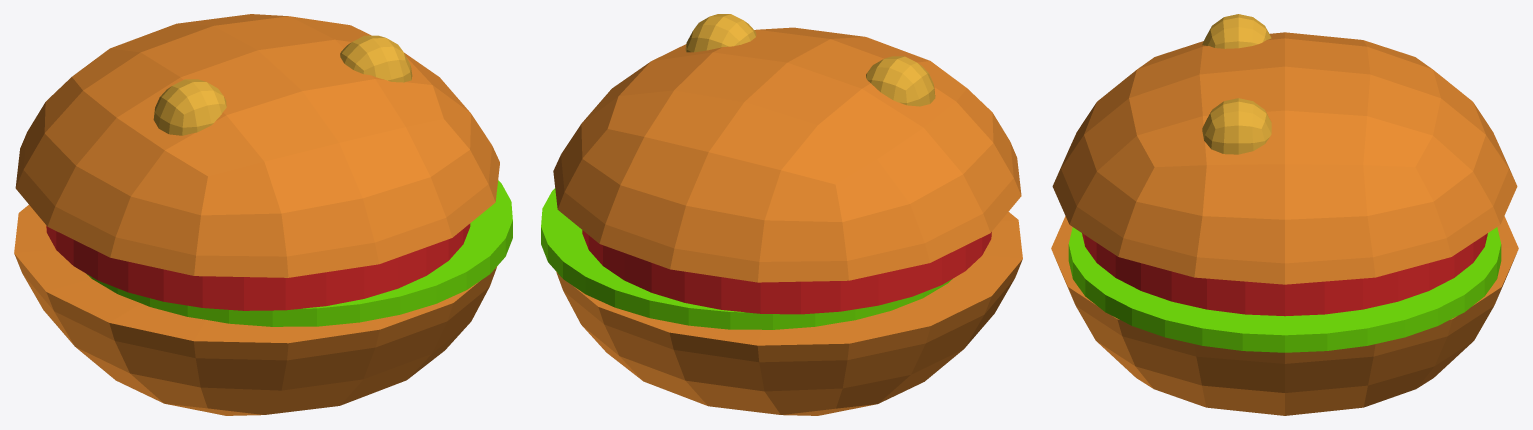
Rendered from burgr.glb.
3 views of the same model, side by side, from view 1: azimuth 30°, elevation 25°; view 2: azimuth 150°, elevation 25°; view 3: azimuth 270°, elevation 25° (orthographic). The views are drawn at different scales.
Parts seen in each view (by area): view 1: Cube_008, Cube_009, Cylinder_004, Cylinder_005, Cube_010, Cube_011; view 2: Cube_008, Cube_009, Cylinder_004, Cylinder_005, Cube_010, Cube_011; view 3: Cube_008, Cube_009, Cylinder_005, Cylinder_004, Cube_011, Cube_010.
Part boxes in pixels (x1,y1,x2,y2): Cube_008: (15, 14, 499, 277); Cube_009: (14, 205, 496, 415); Cylinder_004: (46, 223, 470, 310); Cylinder_005: (87, 180, 512, 326); Cube_010: (153, 79, 226, 135); Cube_011: (340, 35, 412, 82); Cube_008: (553, 27, 1021, 282); Cube_009: (556, 212, 1022, 415); Cylinder_004: (582, 230, 991, 314); Cylinder_005: (541, 188, 952, 329); Cube_010: (866, 56, 935, 106); Cube_011: (685, 14, 756, 52); Cube_008: (1052, 32, 1517, 284); Cube_009: (1051, 216, 1518, 415); Cylinder_005: (1068, 227, 1501, 352); Cylinder_004: (1082, 233, 1487, 316); Cube_011: (1202, 98, 1271, 154); Cube_010: (1202, 14, 1271, 48).
Size of the model in its own units: 2.51 by 1.87 by 2.43.
